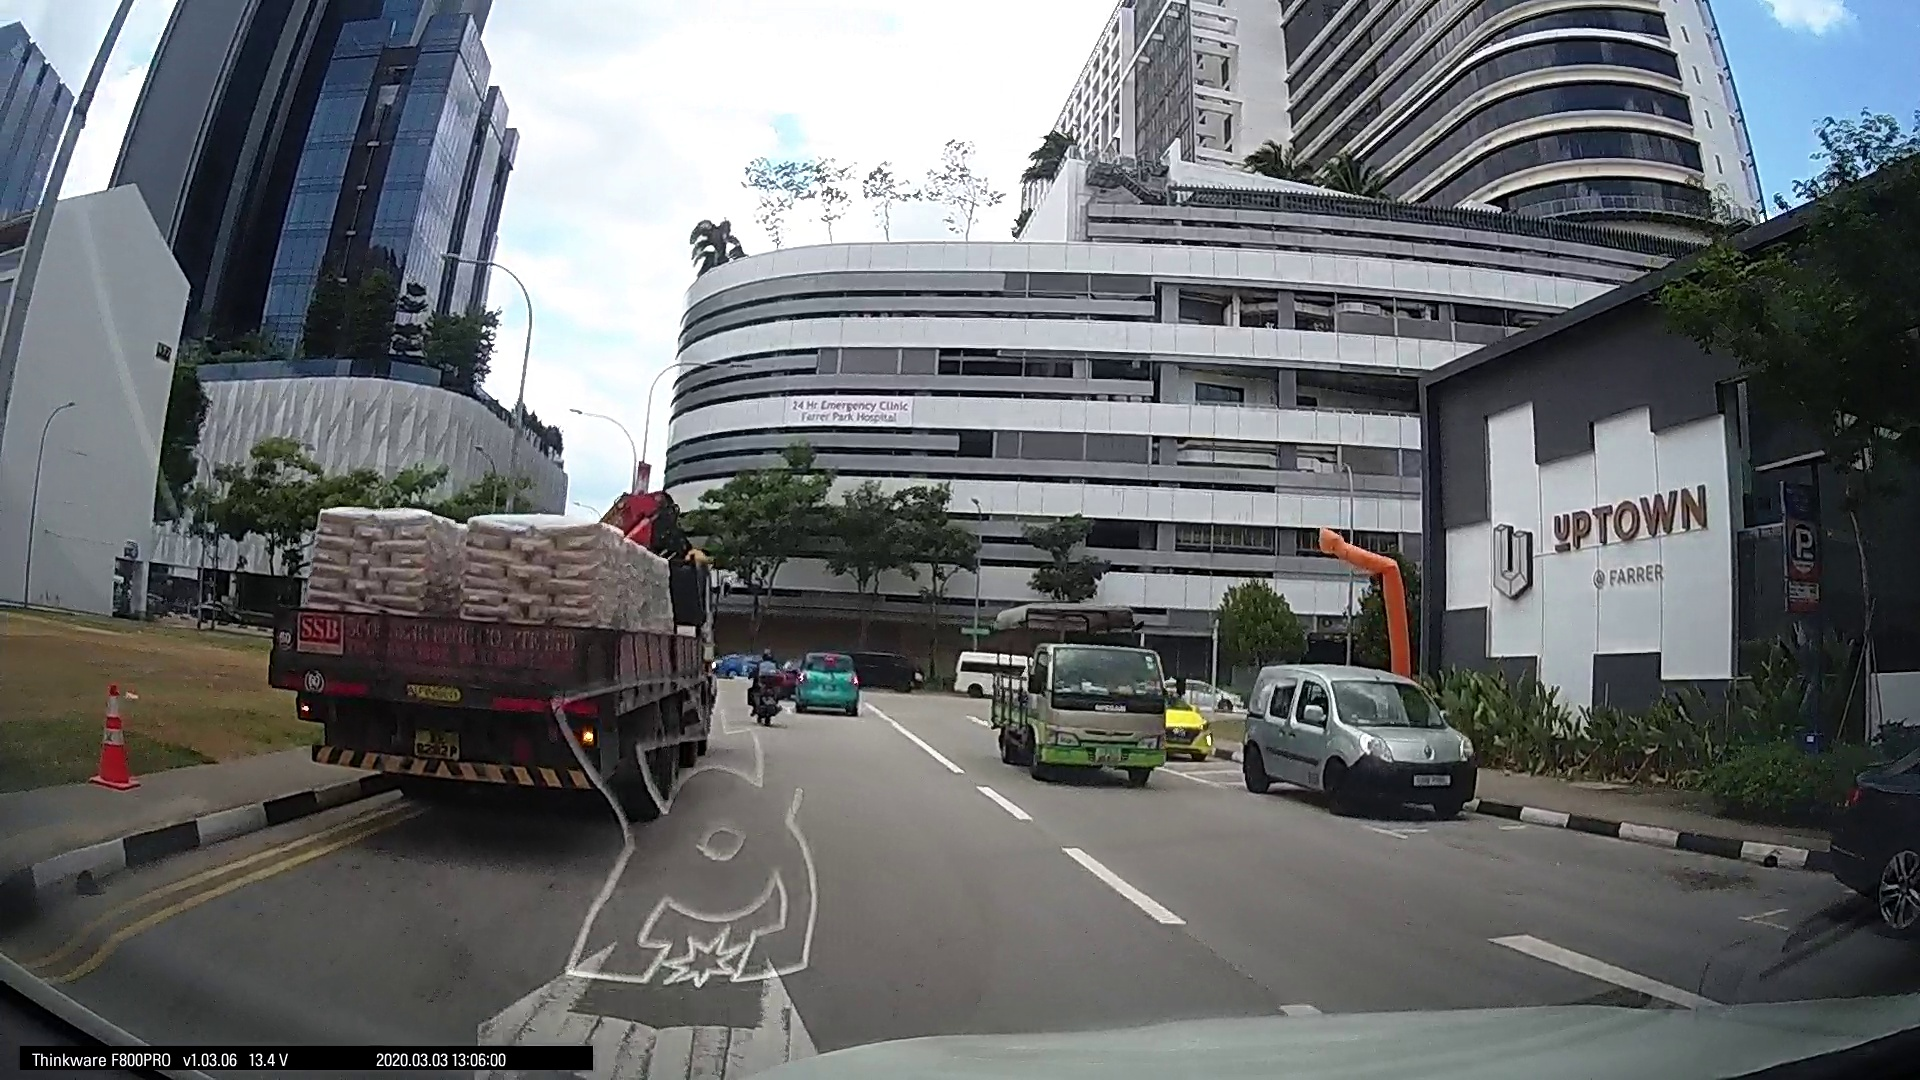Heavy Vehicle: (3, 390, 141, 976), (789, 550, 961, 756), (1295, 622, 1429, 748)
Light Vehicle: (258, 621, 738, 899), (658, 638, 845, 800), (1025, 640, 1077, 688), (1135, 650, 1183, 696)
